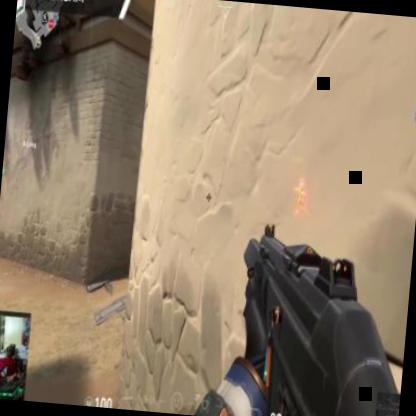enemy: (292, 174, 310, 216)
enemy_head: (298, 178, 304, 185)
